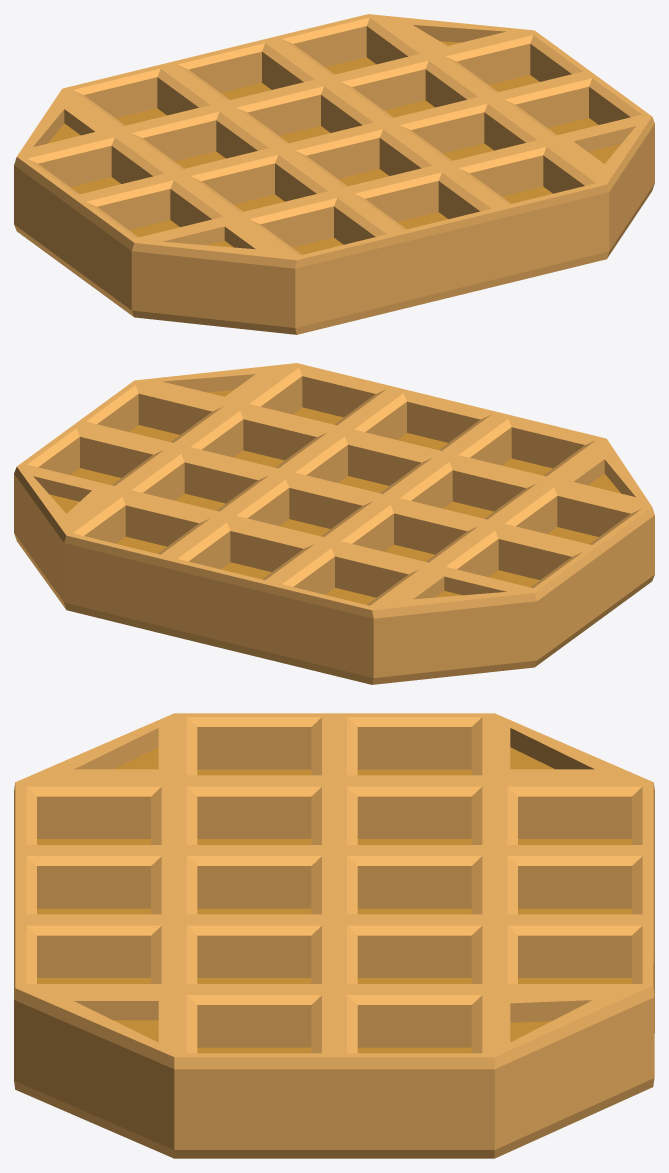
The model's file is Gofre.fbx.
3 views of the same model, one above another, from view 1: azimuth 30°, elevation 25°; view 2: azimuth 150°, elevation 25°; view 3: azimuth 270°, elevation 25° (orthographic). The views are drawn at different scales.
Parts seen in each view (by area): view 1: Gofre; view 2: Gofre; view 3: Gofre.
Part boxes in pixels (x1,y1,x2,y2): Gofre: (14, 14, 654, 334); Gofre: (14, 363, 654, 684); Gofre: (14, 713, 654, 1158).
Bounding box in the file's own units: 711 × 96.88 × 554.
